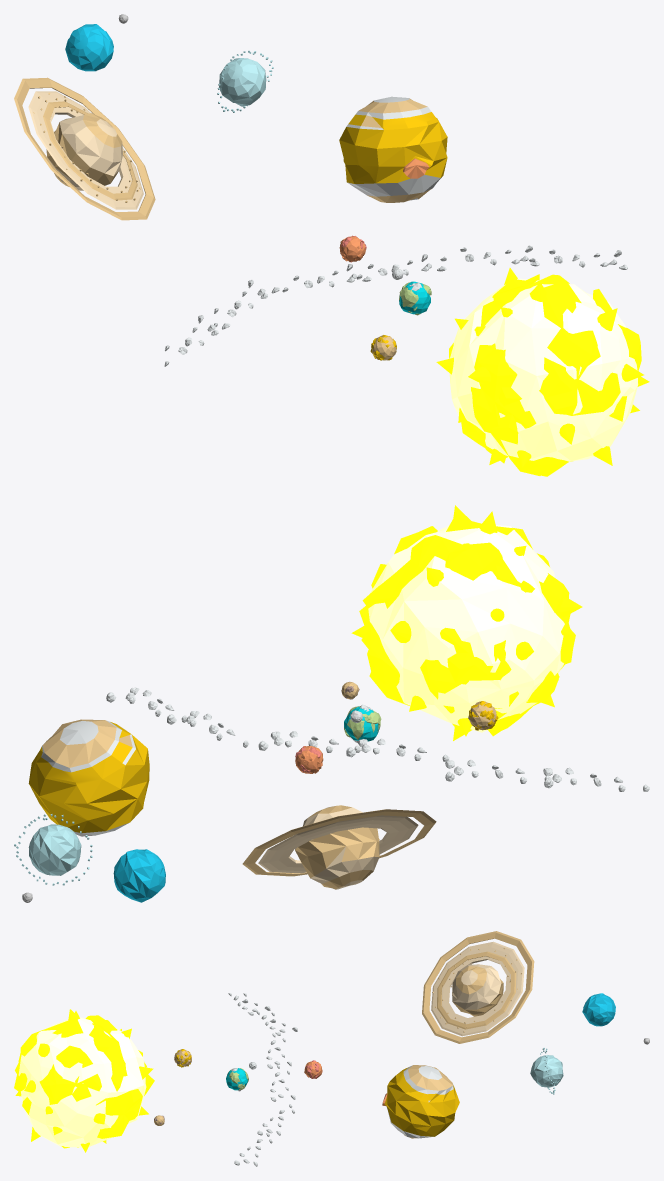
Rendered from space-2.gltf.
3 views of the same model, one above another, from view 1: azimuth 30°, elevation 25°; view 2: azimuth 150°, elevation 25°; view 3: azimuth 270°, elevation 25° (orthographic). The views are drawn at different scales.
Bounding box in the file's own units: 51.86 × 20.96 × 87.52.
